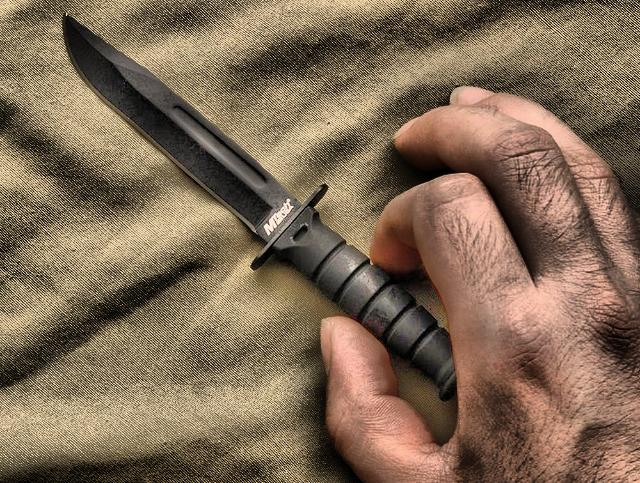knife: (57, 7, 551, 467)
